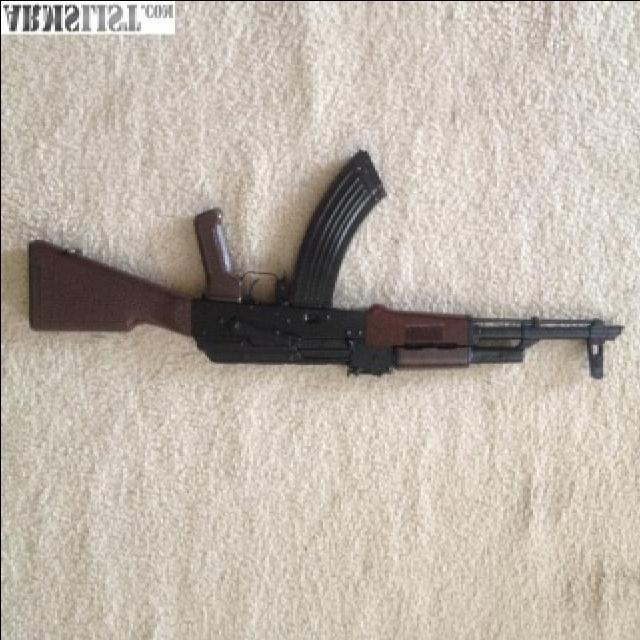rifle: (15, 155, 625, 403)
